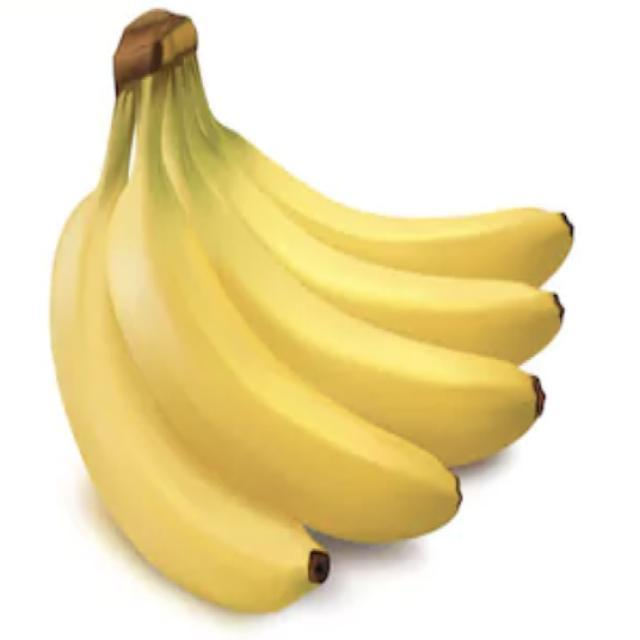Banana: (48, 7, 574, 615)
